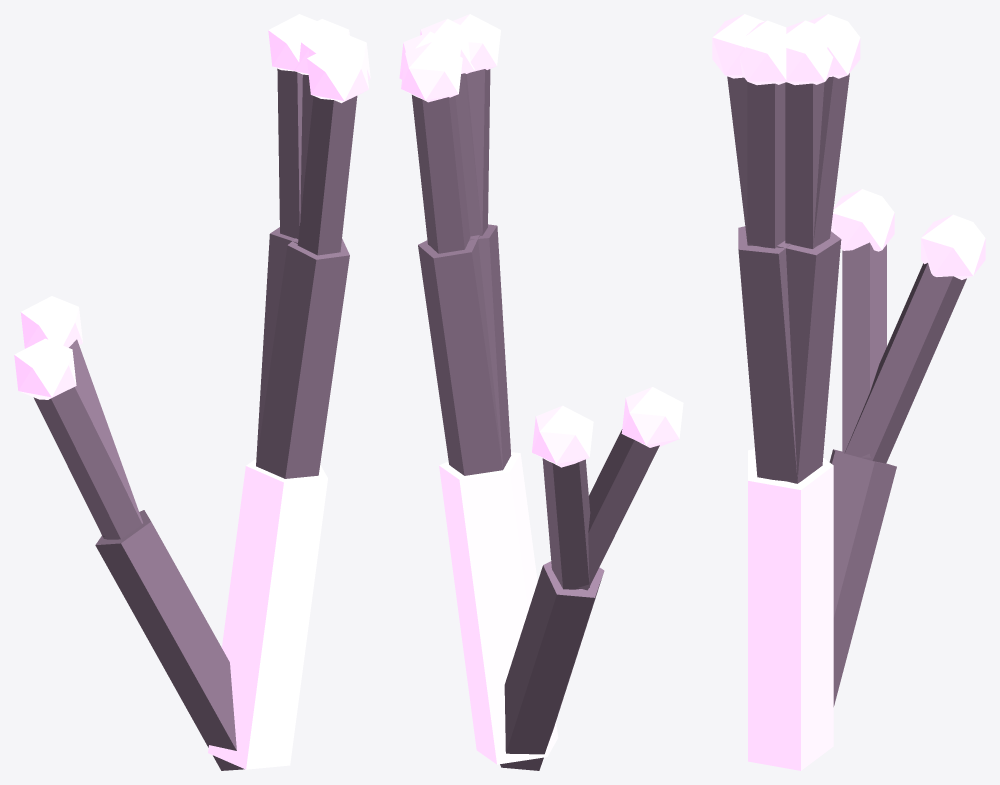
File: corail_modele.glb
The picture shows the model from 3 angles, left to right: view 1: azimuth 30°, elevation 25°; view 2: azimuth 150°, elevation 25°; view 3: azimuth 270°, elevation 25°; orthographic projection. The views are drawn at different scales.
Parts seen in each view (by area): view 1: P1.017, P7.018, P12.019, P10.011, P13.018, P3.013, P14.019, P11.019, P2.017, P16.016, P15.016, P4.019 (+3 smaller); view 2: P1.017, P2.017, P12.019, P3.013, P15.016, P13.018, P7.018, P16.016, P14.019, P4.019, P10.011, P8.016 (+3 smaller); view 3: P1.017, P7.018, P2.017, P15.016, P12.019, P13.018, P8.016, P5.010, P3.013, P16.016, P14.019, P9.018 (+4 smaller).
Part boxes in pixels (box(x1,y1,x2,y2)): P1.017: box(208, 459, 327, 769); P7.018: box(256, 238, 349, 478); P12.019: box(95, 510, 244, 770); P10.011: box(297, 96, 356, 255); P13.018: box(33, 387, 142, 539); P3.013: box(277, 68, 302, 238); P14.019: box(14, 338, 76, 399); P11.019: box(307, 42, 368, 103); P2.017: box(256, 227, 298, 477); P16.016: box(20, 296, 82, 348); P15.016: box(69, 339, 142, 536); P4.019: box(268, 14, 316, 71); P1.017: box(439, 452, 558, 764); P2.017: box(418, 235, 510, 475); P12.019: box(500, 561, 604, 770); P3.013: box(412, 95, 470, 253); P15.016: box(542, 458, 590, 589); P13.018: box(578, 429, 659, 590); P7.018: box(449, 224, 511, 469); P16.016: box(532, 405, 593, 467); P14.019: box(621, 387, 683, 447); P4.019: box(401, 42, 462, 102); P10.011: box(467, 69, 490, 235); P8.016: box(455, 73, 482, 236); P1.017: box(748, 449, 833, 770); P7.018: box(738, 226, 798, 481); P2.017: box(776, 231, 841, 483); P15.016: box(844, 263, 966, 463); P12.019: box(829, 449, 896, 706); P13.018: box(842, 242, 886, 457); P8.016: box(747, 82, 785, 248); P5.010: box(785, 82, 824, 248); P3.013: box(810, 73, 849, 248); P16.016: box(921, 214, 985, 279); P14.019: box(831, 189, 894, 251); P9.018: box(739, 20, 786, 85).
Size of the model in its own units: 0.4016 by 0.9108 by 0.2881.
